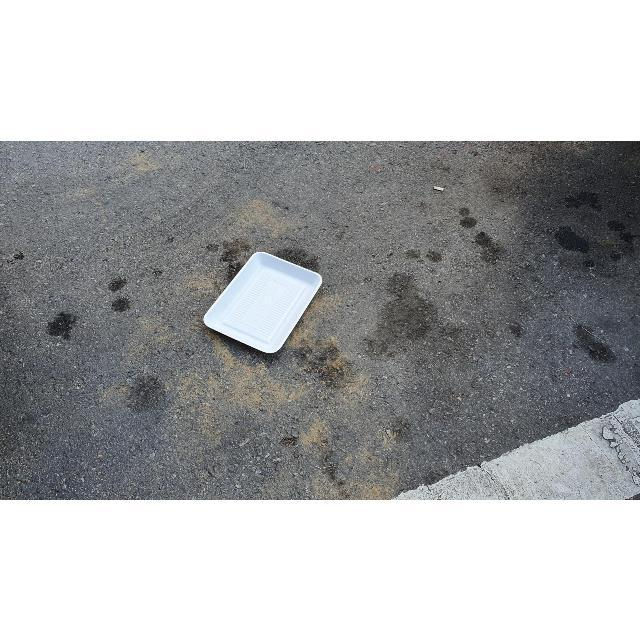Plastico descartable: (202, 252, 323, 357)
